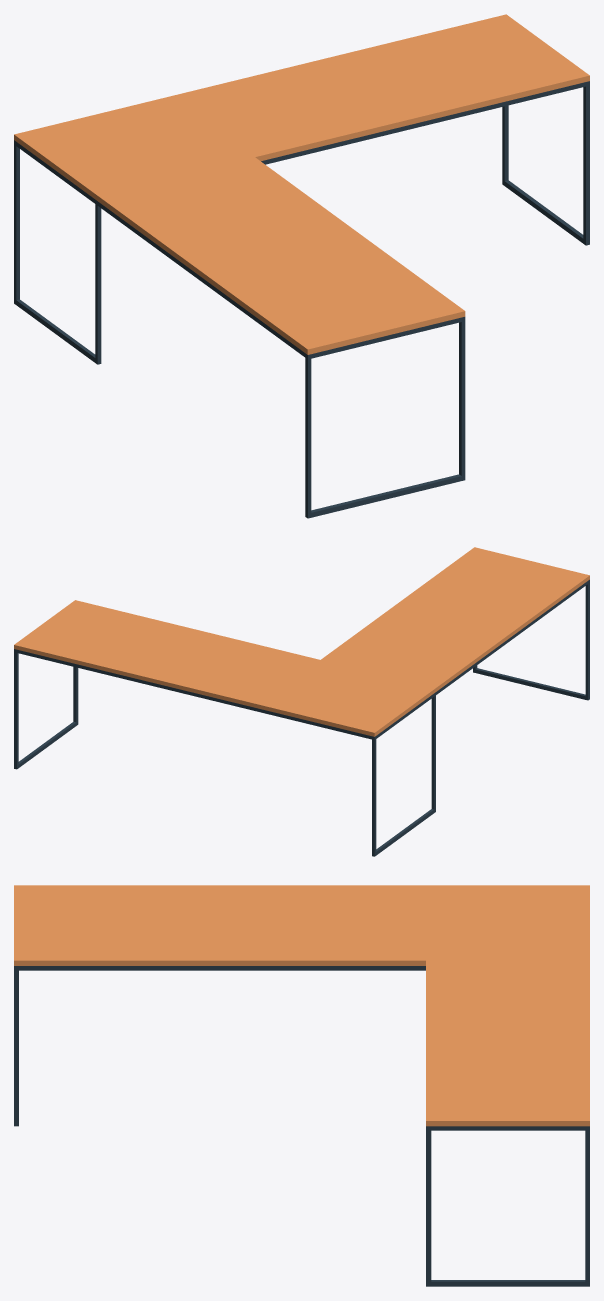
The model's file is TableL.fbx.
3 views of the same model, one above another, from view 1: azimuth 30°, elevation 25°; view 2: azimuth 150°, elevation 25°; view 3: azimuth 270°, elevation 25° (orthographic). The views are drawn at different scales.
Visible parts, largest first — view 1: Table L; view 2: Table L; view 3: Table L.
Boxes of the visible parts, left/top/right/bottom form: Table L: left=14, top=14, right=589, bottom=518; Table L: left=14, top=547, right=589, bottom=856; Table L: left=14, top=885, right=589, bottom=1286.
Size of the model in its own units: 625 by 205 by 646.
